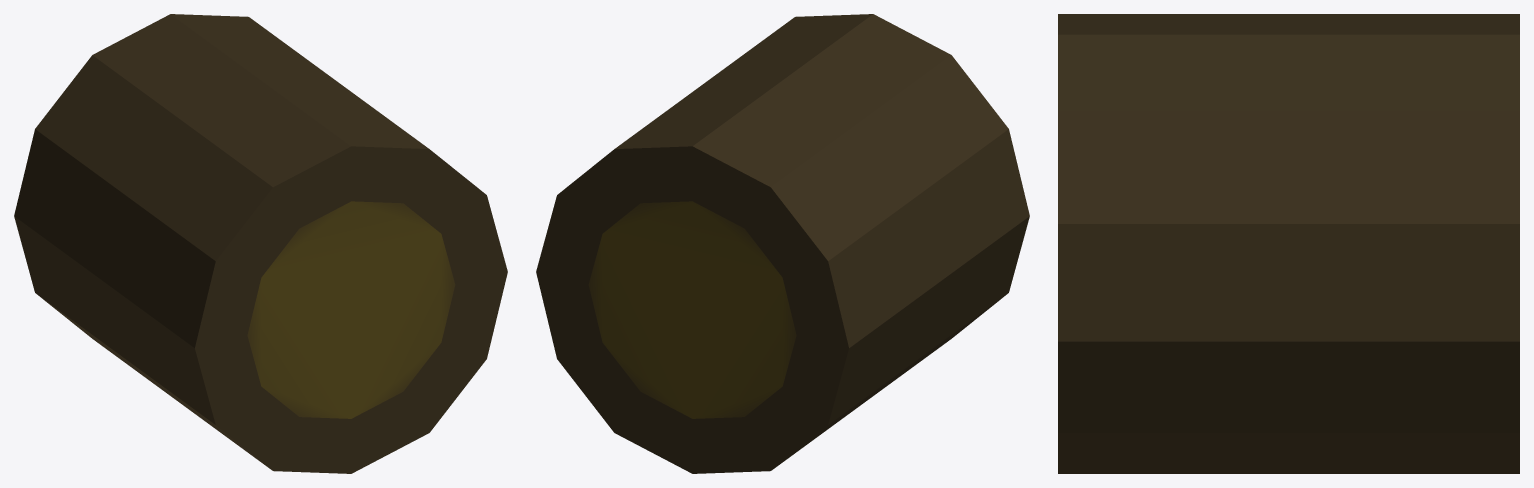
Rendered from wood.obj.
3 renders of one model, left to right at view 1: azimuth 30°, elevation 25°; view 2: azimuth 150°, elevation 25°; view 3: azimuth 270°, elevation 25°, orthographic. The views are drawn at different scales.
Parts seen in each view (by area): view 1: Cylinder; view 2: Cylinder; view 3: Cylinder.
Part boxes in pixels (box(x1,y1,x2,y2)): Cylinder: box(14, 14, 507, 473); Cylinder: box(536, 14, 1029, 473); Cylinder: box(1058, 14, 1519, 473).
Bounding box in the file's own units: 0.5 × 0.5 × 0.5.
